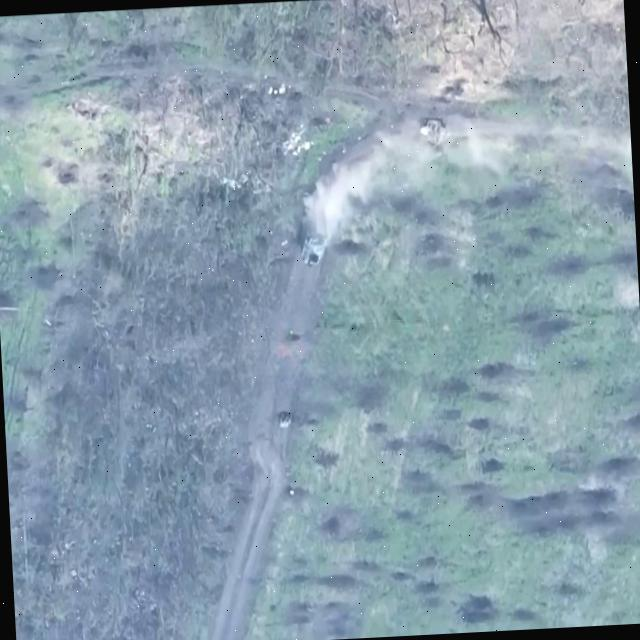APC: (297, 215, 334, 271)
Vehicle: (418, 112, 452, 149)
